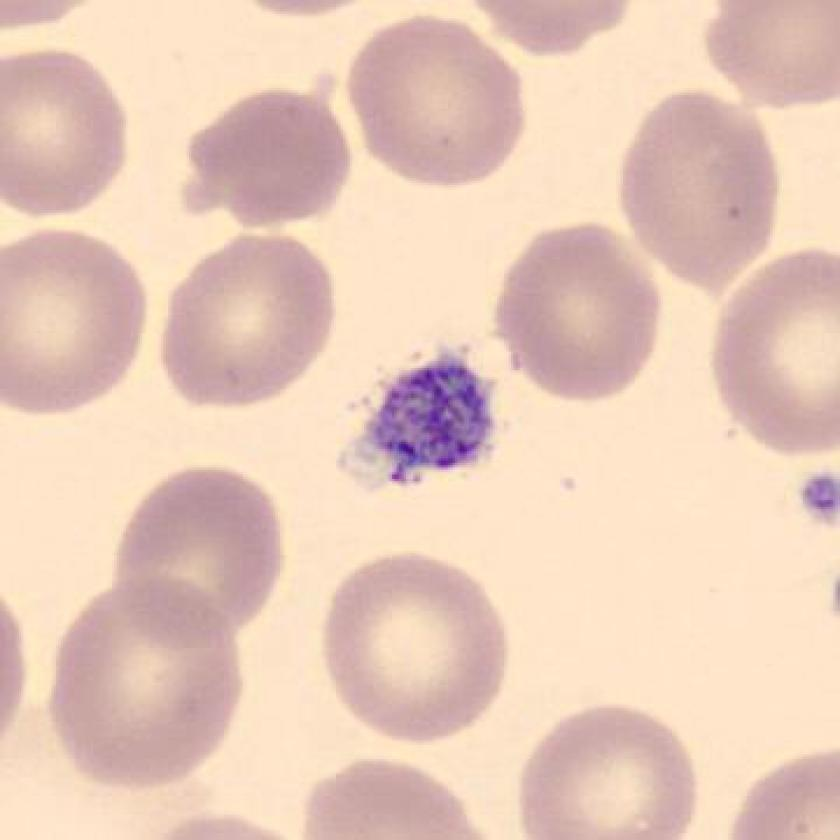platelets: (323, 339, 510, 496), (789, 466, 840, 524)
